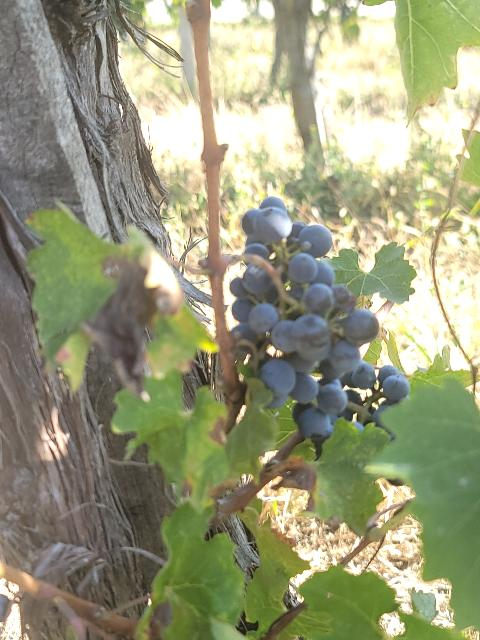grapes: (234, 198, 379, 440)
